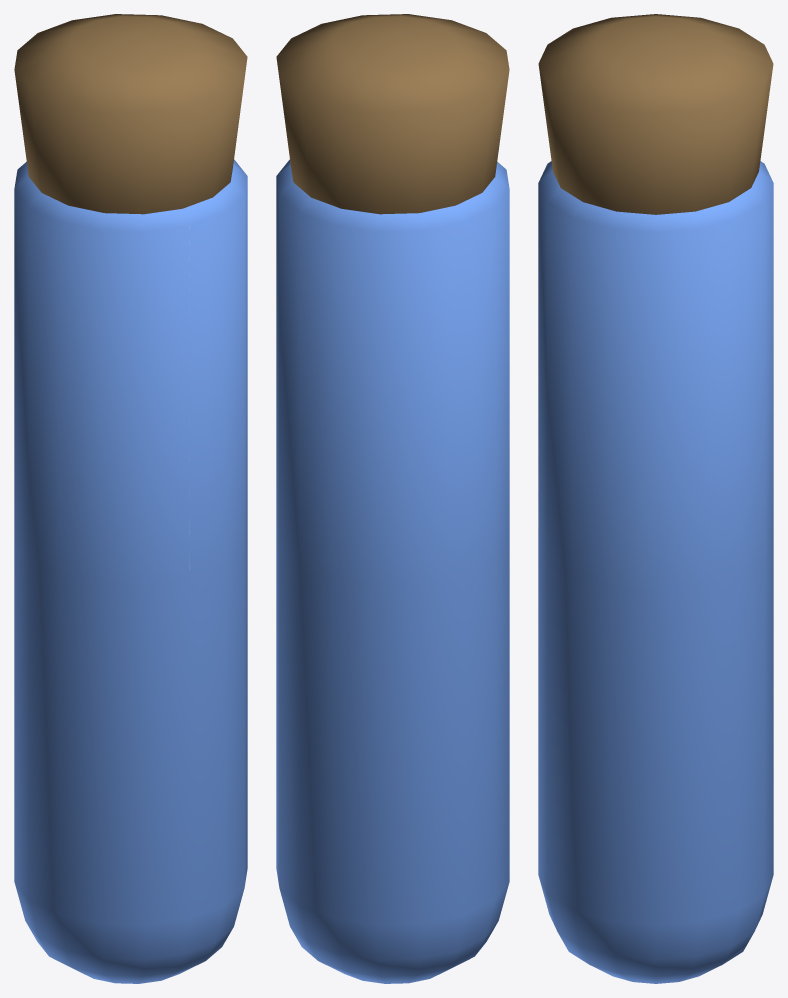
The model's file is HealthPotionLong.fbx.
3 views of the same model, side by side, from view 1: azimuth 30°, elevation 25°; view 2: azimuth 150°, elevation 25°; view 3: azimuth 270°, elevation 25° (orthographic).
Visible parts, largest first — view 1: Sphere.004; view 2: Sphere.004; view 3: Sphere.004.
Boxes of the visible parts, box(x1,y1,x2,y2) form: Sphere.004: box(14, 14, 247, 983); Sphere.004: box(276, 14, 509, 983); Sphere.004: box(538, 14, 773, 983).
Size of the model in its own units: 100 by 438 by 100.
